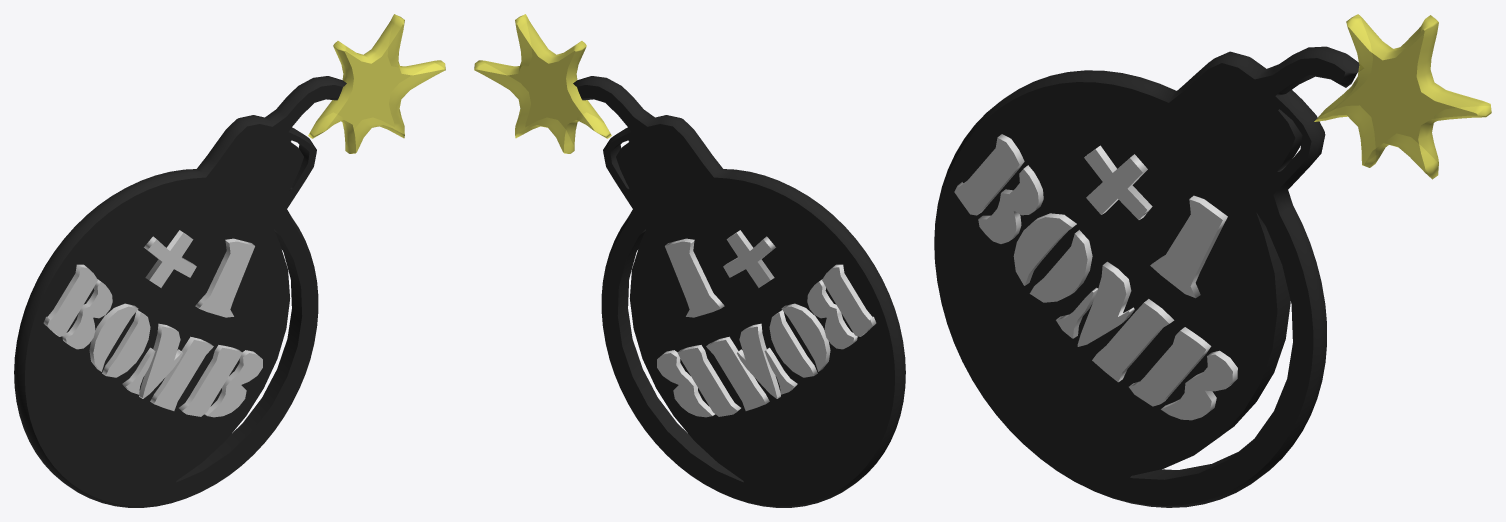
File: Powerup_quantity.fbx
The picture shows the model from 3 angles, left to right: view 1: azimuth 30°, elevation 25°; view 2: azimuth 150°, elevation 25°; view 3: azimuth 330°, elevation 25°; orthographic projection. The views are drawn at different scales.
Parts seen in each view (by area): view 1: polySurface3; view 2: polySurface3; view 3: polySurface3.
Boxes of the visible parts, x1=… form: polySurface3: x1=14, y1=14, x2=445, y2=507; polySurface3: x1=474, y1=14, x2=905, y2=507; polySurface3: x1=934, y1=14, x2=1491, y2=507.
Size of the model in its own units: 16.82 by 16.2 by 1.21.
